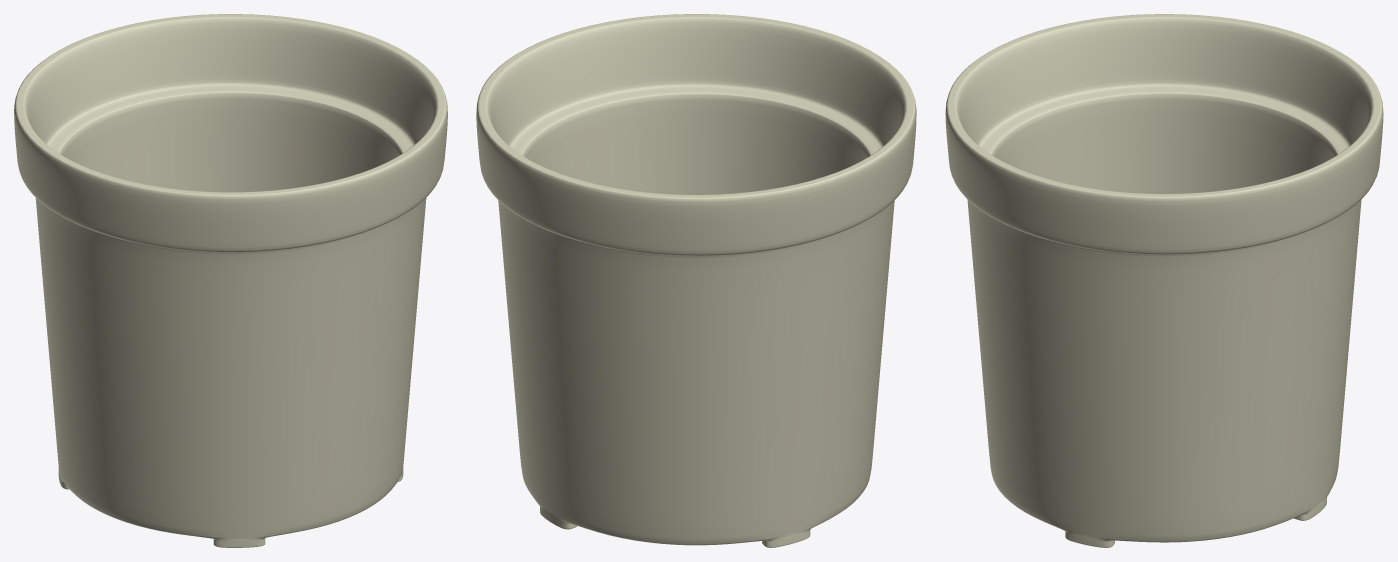
The model's file is pot-jaune-vide_01.fbx.
3 renders of one model, left to right at view 1: azimuth 30°, elevation 25°; view 2: azimuth 150°, elevation 25°; view 3: azimuth 270°, elevation 25°, orthographic.
Parts seen in each view (by area): view 1: pot_vide; view 2: pot_vide; view 3: pot_vide.
Boxes of the visible parts, <box> form: pot_vide: <box>14,14,447,547</box>; pot_vide: <box>476,14,916,547</box>; pot_vide: <box>945,14,1383,547</box>.
Bounding box in the file's own units: 2.48 × 2.34 × 2.48.
